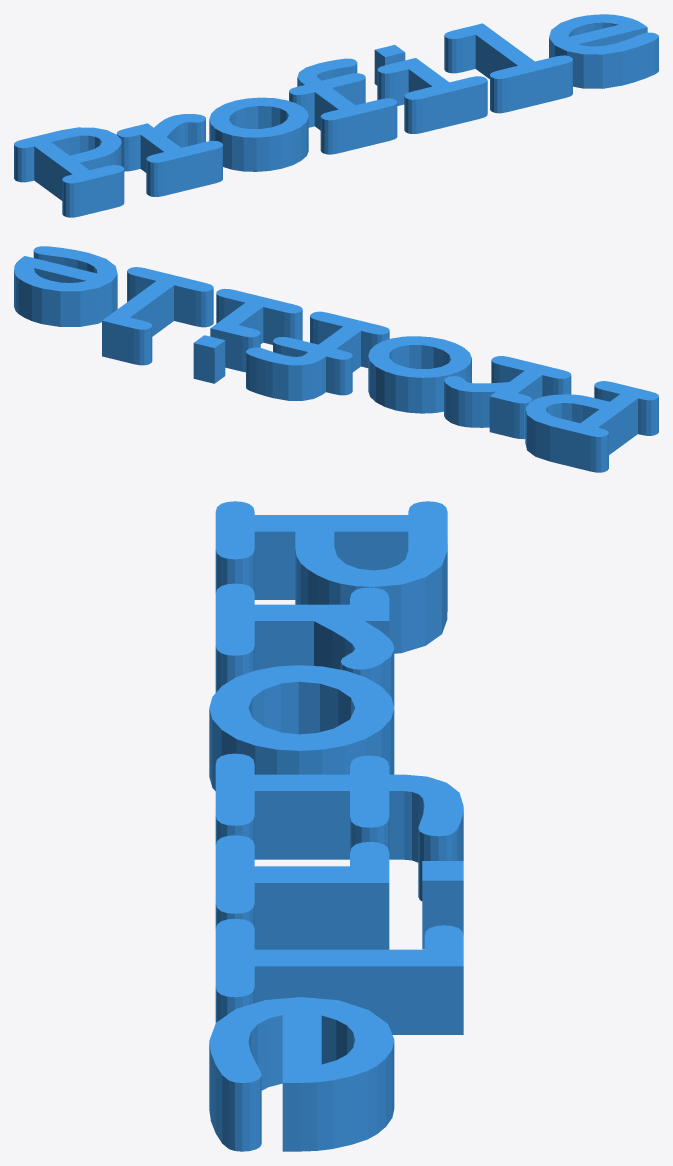
File: Profile.glb
3 renders of one model, top to bottom at view 1: azimuth 30°, elevation 25°; view 2: azimuth 150°, elevation 25°; view 3: azimuth 270°, elevation 25°, orthographic. The views are drawn at different scales.
Parts seen in each view (by area): view 1: Profile; view 2: Profile; view 3: Profile.
Part boxes in pixels (bbox=[...]): Profile: bbox=[14, 14, 658, 217]; Profile: bbox=[14, 246, 658, 472]; Profile: bbox=[209, 501, 463, 1151].
Bounding box in the file's own units: 1.82 × 0.1 × 0.3362.
